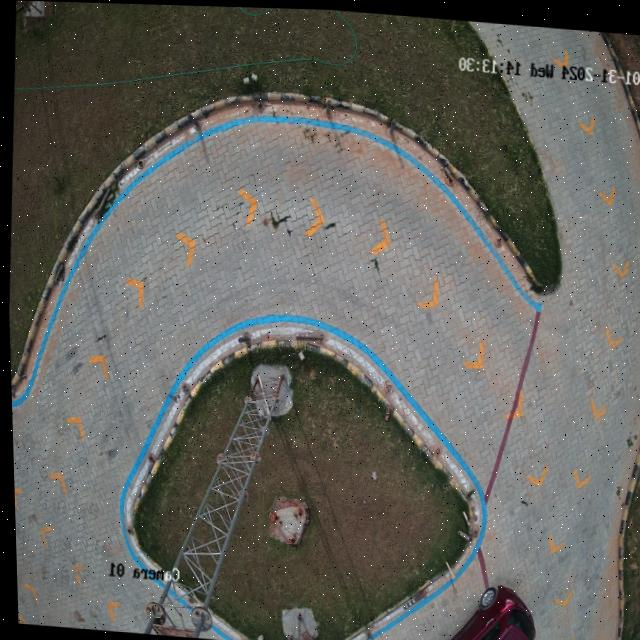car: (444, 584, 532, 640)
